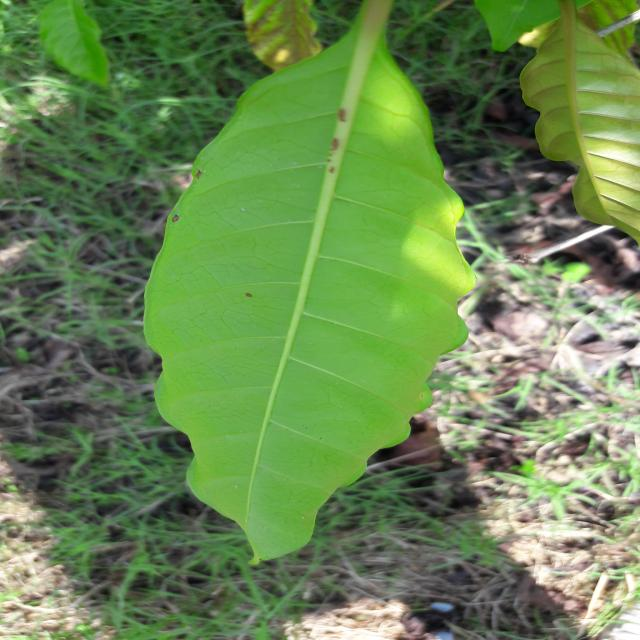Sanas: (144, 0, 480, 566)
